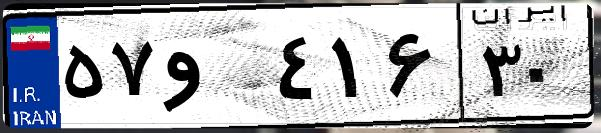0: (525, 38, 570, 115)
1: (330, 28, 385, 110)
3: (475, 38, 525, 113)
4: (270, 28, 330, 110)
5: (57, 26, 110, 100)
6: (385, 28, 445, 110)
7: (110, 28, 158, 98)
و: (158, 20, 270, 120)
